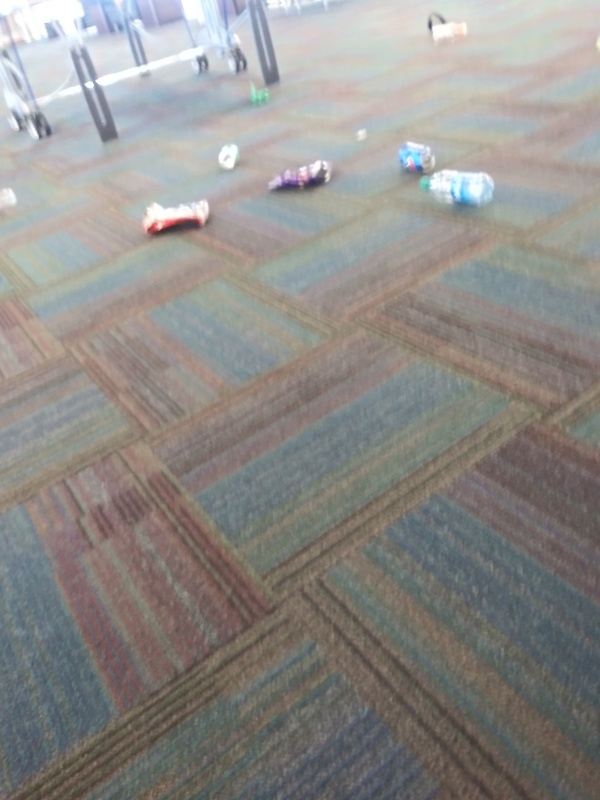bag: (138, 196, 217, 239), (262, 157, 338, 196)
bottle: (415, 165, 501, 211), (429, 16, 473, 47)
can: (391, 138, 439, 173), (213, 138, 243, 175)
